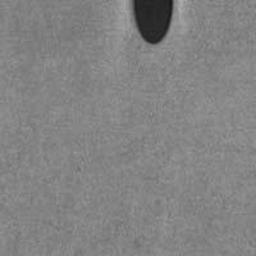Punching: (133, 0, 173, 45)
